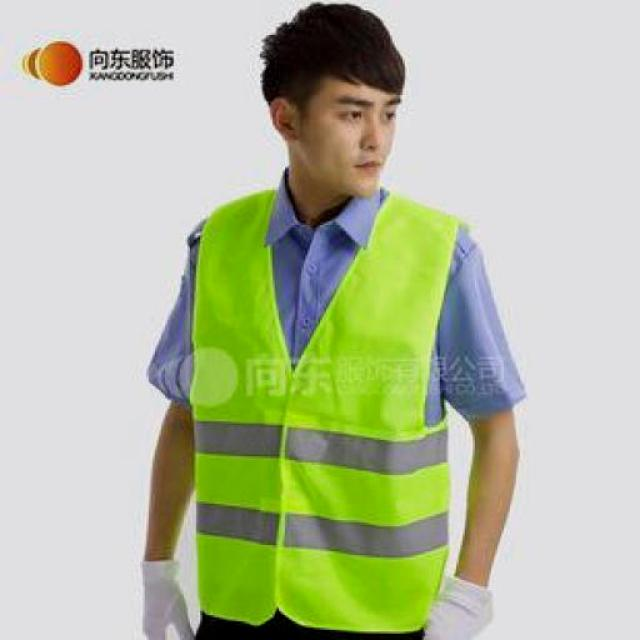face_nomask: (316, 85, 403, 187)
head_nohelmet: (255, 0, 410, 102)
person: (126, 2, 514, 640)
vest: (186, 182, 457, 626)
